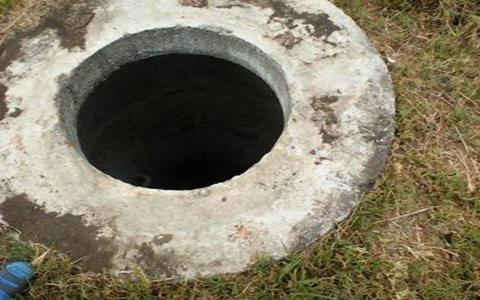open manhole: (56, 1, 314, 214)
